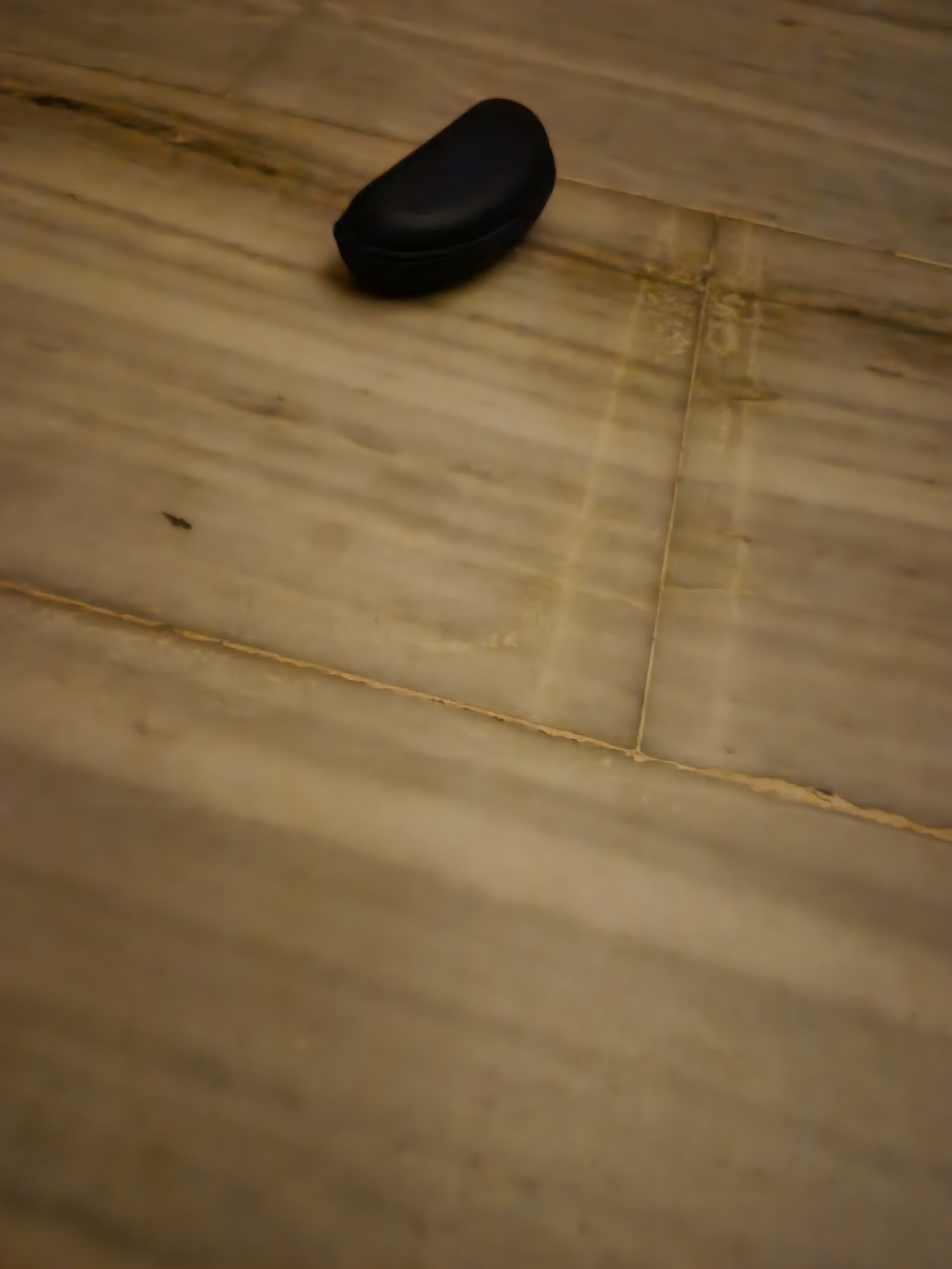case: (324, 83, 562, 300)
